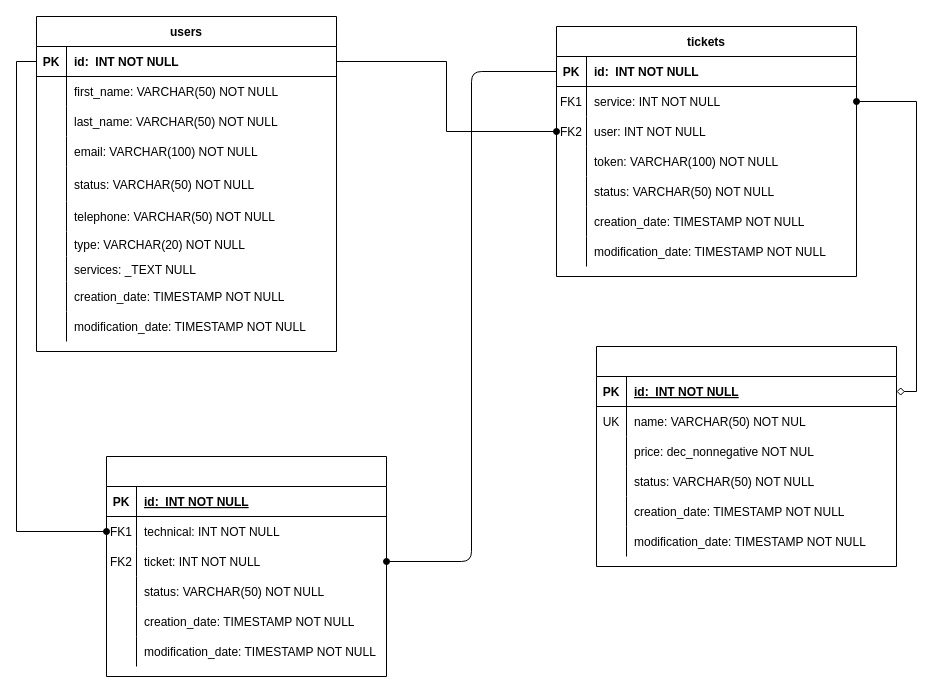
This 933x693 diagram has some shape labels left out. Each missing label, with the box of its shape:
service_requests: (106, 456, 386, 676)
services: (596, 346, 896, 566)
